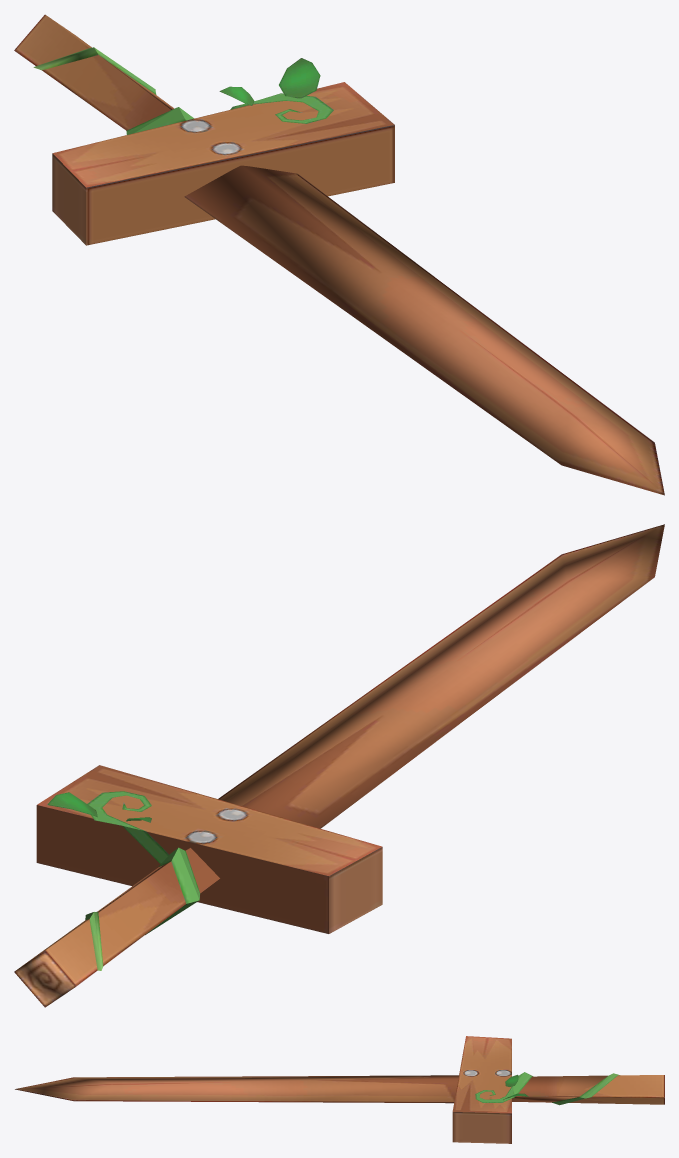
Rendered from sword0021.fbx.
3 renders of one model, top to bottom at view 1: azimuth 30°, elevation 25°; view 2: azimuth 150°, elevation 25°; view 3: azimuth 270°, elevation 25°, orthographic. The views are drawn at different scales.
Parts seen in each view (by area): view 1: sword0021; view 2: sword0021; view 3: sword0021.
Part boxes in pixels (box(x1,y1,x2,y2)): sword0021: box(14, 14, 664, 495); sword0021: box(14, 524, 664, 1007); sword0021: box(15, 1036, 664, 1143).
Size of the model in its own units: 0.2286 by 0.0581 by 0.8125.
